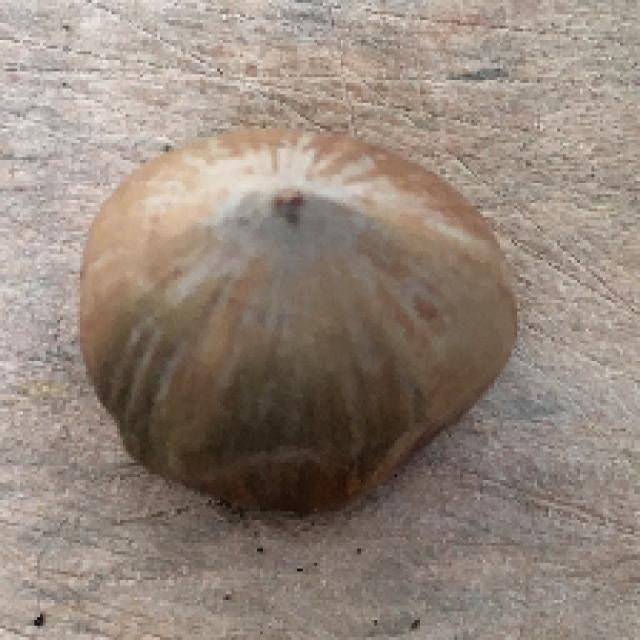qualityHazelnut: (72, 112, 522, 526)
